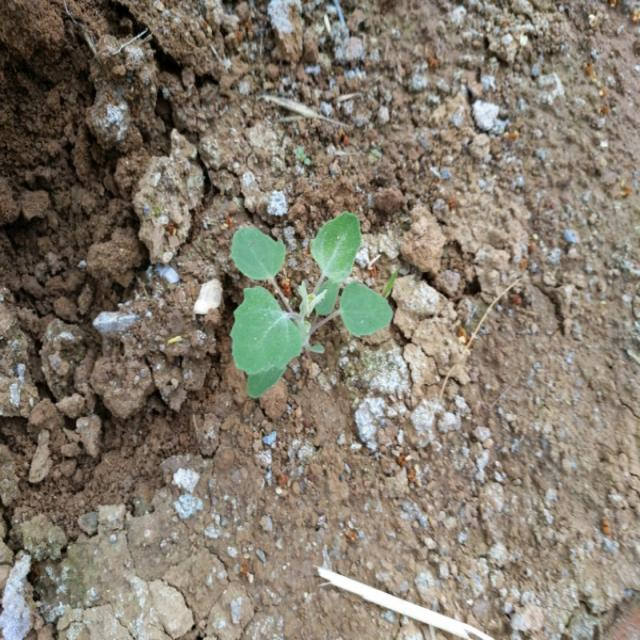ca: (231, 214, 392, 392)
